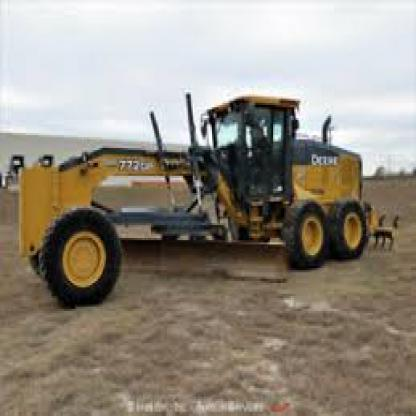bull_dozer/loader/grader: (16, 69, 402, 306)
